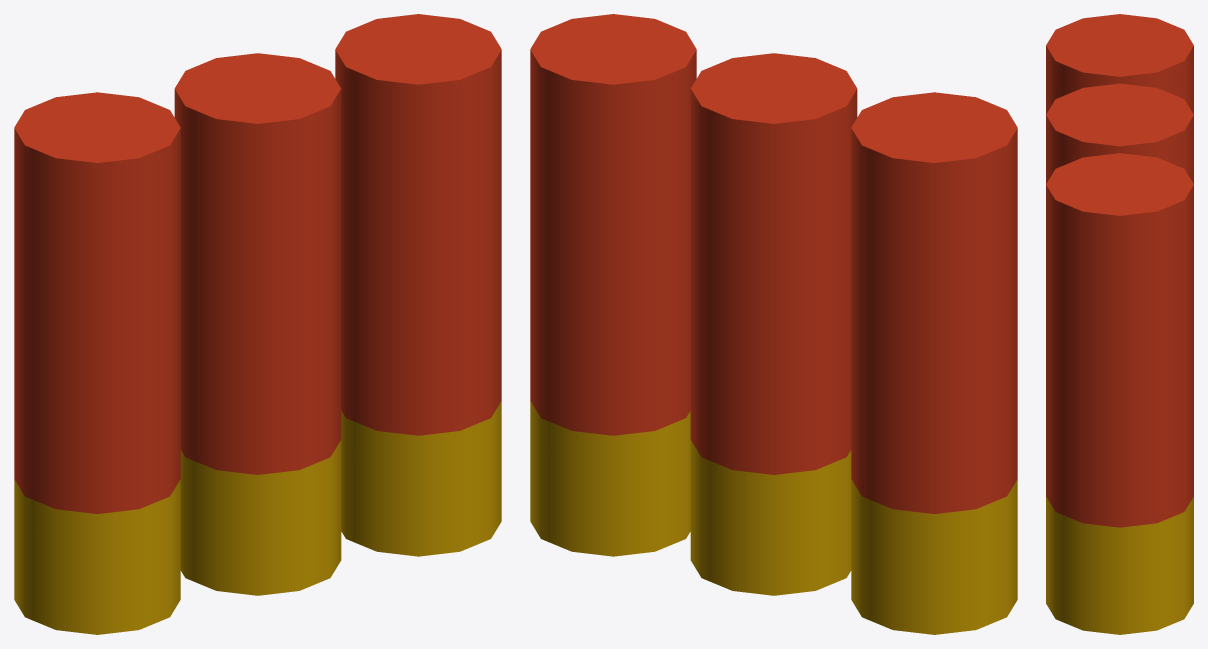
Rendered from ShotgunPickup.fbx.
3 views of the same model, side by side, from view 1: azimuth 30°, elevation 25°; view 2: azimuth 150°, elevation 25°; view 3: azimuth 270°, elevation 25° (orthographic). The views are drawn at different scales.
Visible parts, largest first — view 1: gun_bullet3a_036; view 2: gun_bullet3a_036; view 3: gun_bullet3a_036.
Boxes of the visible parts, x1,y1,x2,y2 form: gun_bullet3a_036: (14, 14, 501, 634); gun_bullet3a_036: (530, 14, 1017, 634); gun_bullet3a_036: (1046, 14, 1193, 634).
Size of the model in its own units: 74.53 by 72.1 by 23.07.
